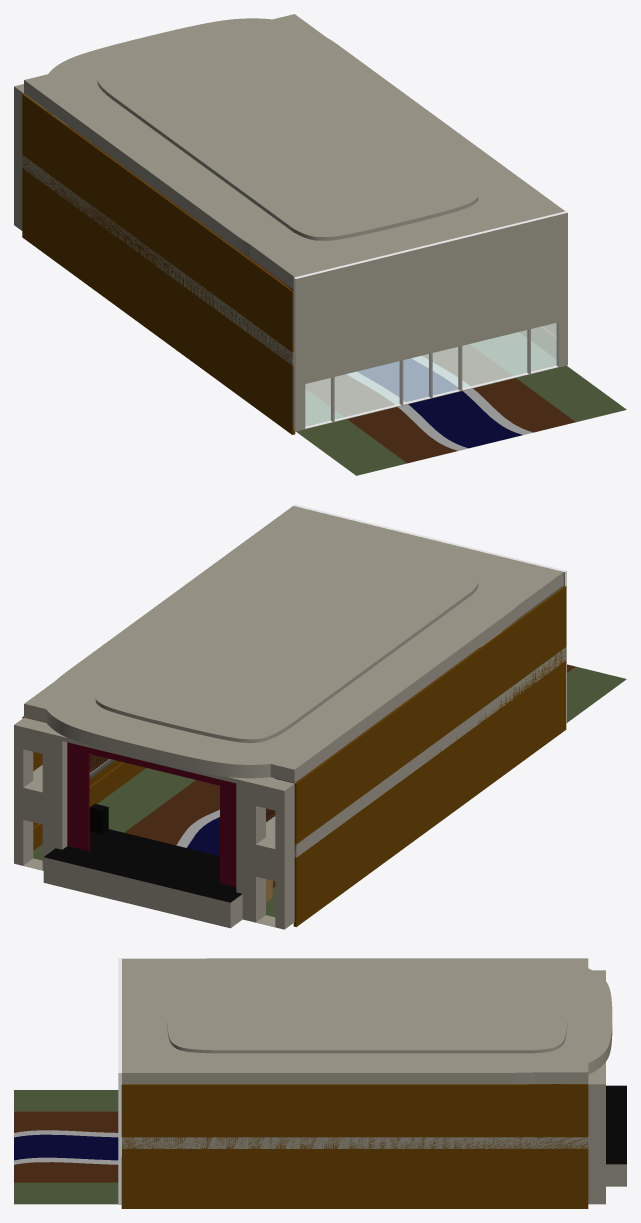
The model's file is DoneAula.glb.
3 renders of one model, top to bottom at view 1: azimuth 30°, elevation 25°; view 2: azimuth 150°, elevation 25°; view 3: azimuth 270°, elevation 25°, orthographic. The views are drawn at different scales.
Visible parts, largest first — view 1: Upperroof, VeggV, Takring, Bak_Concrete, Gulv_Granite - Red, Gulv_Concrete - Tiles, Gulv_Granite - Blue Pearl, Galleri, Body171, Body169, Bak_Steel - Satin, Gulv_Granite - Black and White (+6 smaller); view 2: Upperroof, Takring, VeggV, Front_Concrete, Gulv_Concrete - Tiles, Curtains, Galleri, Front_Plastic - Matte (Black), Scene_Plastic - Matte (Black), Gulv_Granite - Red, VeggH, Bak_Steel - Satin (+1 smaller); view 3: VeggH, Upperroof, Takring, Galleri, Gulv_Concrete - Tiles, Gulv_Granite - Red, Front_Concrete, Gulv_Granite - Blue Pearl, Front_Plastic - Matte (Black), Gulv_Granite - Black and White, Bak_Steel - Satin.
Part boxes in pixels (x1,y1,x2,y2): Upperroof: (97,36,478,240); VeggV: (22,94,295,434); Takring: (24,14,564,289); Bak_Concrete: (295,213,567,431); Gulv_Granite - Red: (305,344,575,463); Gulv_Concrete - Tiles: (296,332,626,475); Gulv_Granite - Blue Pearl: (357,358,522,448); Galleri: (22,155,293,365); Body171: (334,361,399,419); Body169: (462,330,527,387); Bak_Steel - Satin: (293,211,567,431); Gulv_Granite - Black and White: (347,356,533,450); Upperroof: (95,539,478,742); Takring: (24,506,563,782); VeggV: (293,586,566,926); Front_Concrete: (14,717,294,929); Gulv_Concrete - Tiles: (33,666,626,917); Curtains: (67,742,236,886); Galleri: (33,631,566,857); Front_Plastic - Matte (Black): (44,846,242,902); Scene_Plastic - Matte (Black): (89,804,219,878); Gulv_Granite - Red: (124,664,575,887); VeggH: (22,716,146,850); Bak_Steel - Satin: (293,504,566,723); VeggH: (121,1084,588,1208); Upperroof: (167,974,567,1053); Takring: (122,958,612,1084); Galleri: (122,1137,588,1148); Gulv_Concrete - Tiles: (14,1090,118,1204); Gulv_Granite - Red: (14,1111,118,1182); Front_Concrete: (588,970,626,1204); Gulv_Granite - Blue Pearl: (14,1134,118,1160); Front_Plastic - Matte (Black): (606,1085,626,1164); Gulv_Granite - Black and White: (14,1130,118,1164); Bak_Steel - Satin: (118,958,121,1204).
Bounding box in the file's own units: 35.84 × 20.08 × 80.35.
